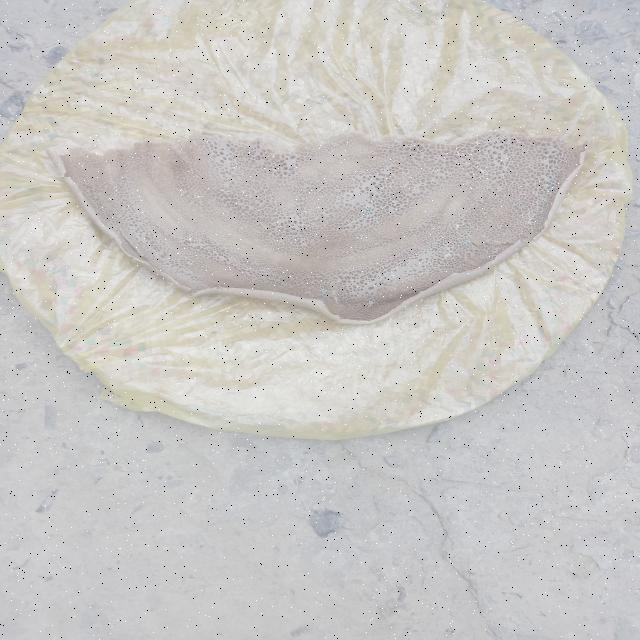injera_mold: (520, 209, 536, 225), (476, 164, 489, 180), (454, 147, 472, 158), (365, 298, 375, 308), (458, 237, 471, 244), (514, 200, 523, 208), (469, 140, 481, 146), (319, 288, 328, 294), (443, 253, 452, 259), (363, 206, 372, 212), (359, 234, 367, 240), (539, 211, 547, 217), (542, 150, 550, 156), (186, 261, 194, 266), (373, 217, 379, 223), (548, 183, 554, 189), (548, 175, 556, 179), (512, 237, 519, 241), (455, 224, 460, 228), (498, 225, 503, 229), (429, 242, 435, 245), (390, 274, 394, 278), (424, 204, 429, 207), (447, 247, 450, 251), (553, 149, 557, 152), (449, 184, 454, 186), (437, 226, 441, 228), (391, 272, 393, 274), (380, 294, 382, 296), (462, 223, 464, 225)
